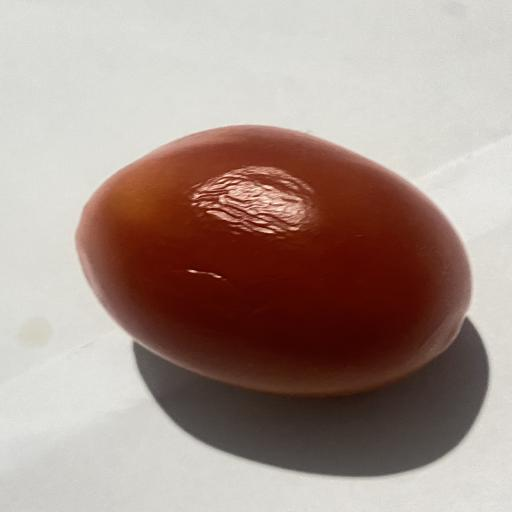overipe: (76, 125, 471, 396)
